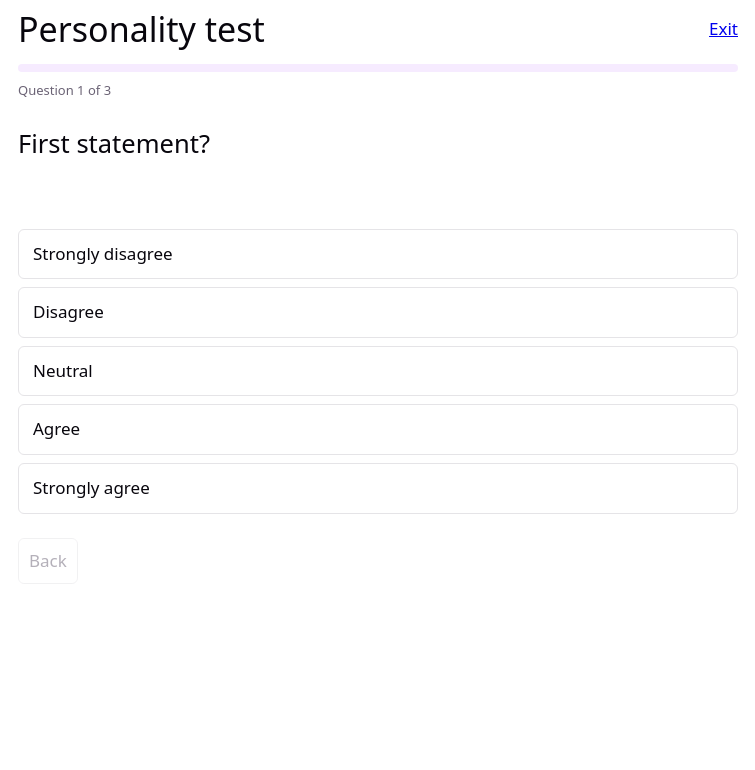
Scenario: quiz flow › walks through every question and lands on the results page
Click the button "Agree". click: coordinates (57, 429)
box: x1=18 y1=404 x2=738 y2=455
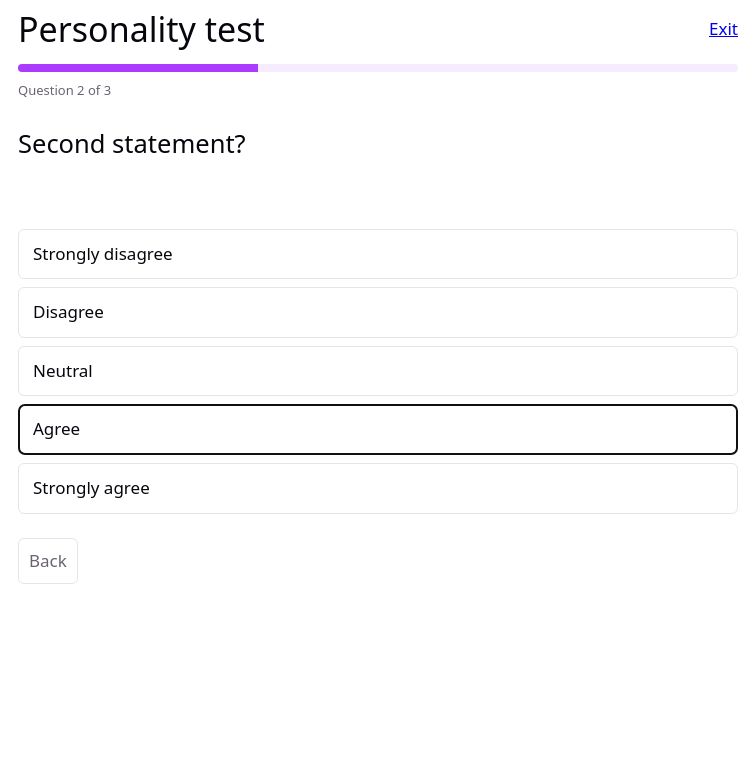
Result: the heading "Second statement?" is shown at x1=18 y1=126 x2=246 y2=160
Click the button "Strongly agree". click: coordinates (91, 488)
box: x1=18 y1=463 x2=738 y2=514
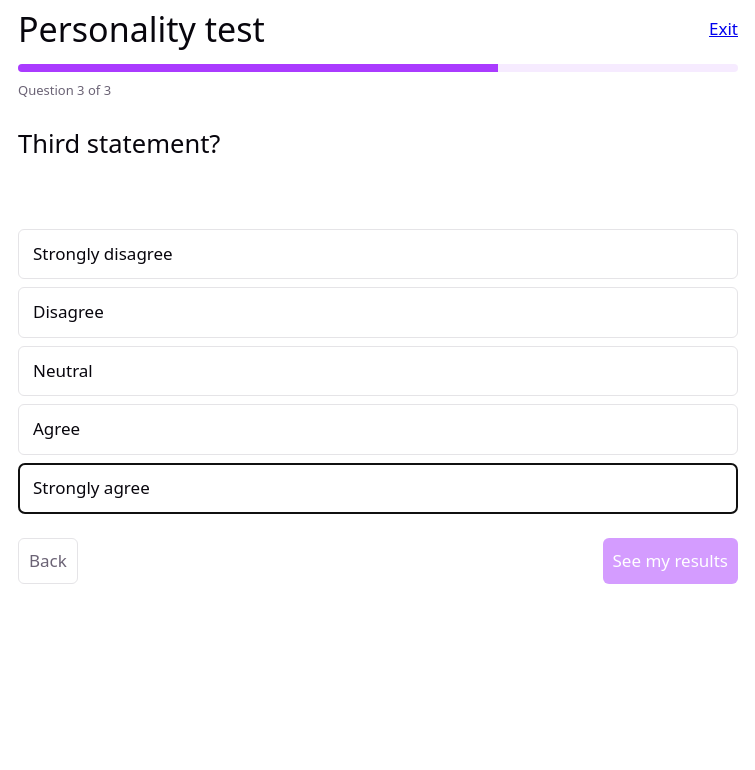
Result: the heading "Third statement?" is shown at x1=18 y1=126 x2=220 y2=160
Result: the button "See my results" is disabled at x1=602 y1=538 x2=738 y2=584
Click the button "Neutral". click: coordinates (63, 370)
box: x1=18 y1=346 x2=738 y2=396
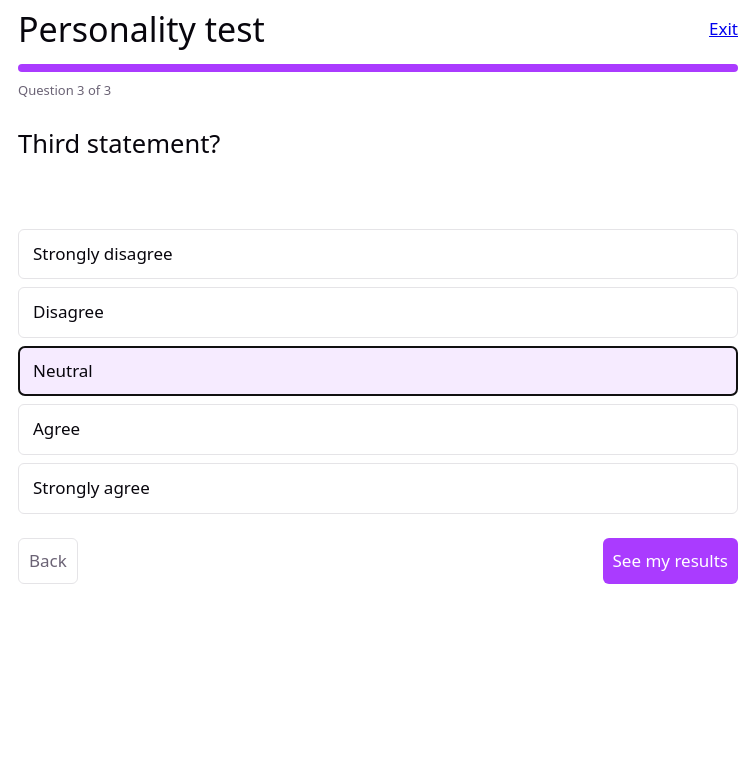
Result: the button "See my results" is enabled
Click the button "See my results". click: coordinates (670, 561)
box: x1=602 y1=538 x2=738 y2=584
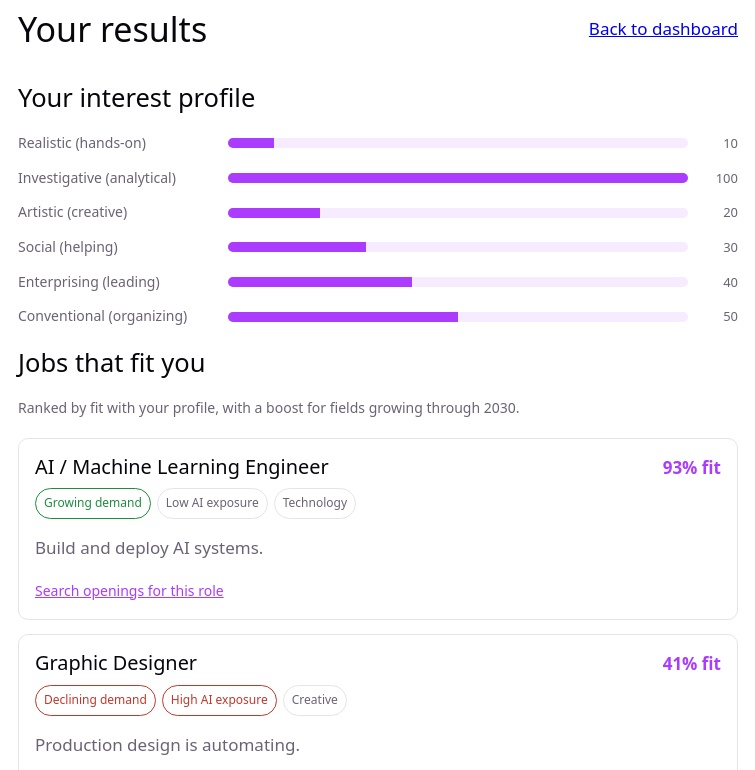
Result: the heading "Your interest profile" is shown at x1=18 y1=80 x2=255 y2=114
Result: the heading "AI / Machine Learning Engineer" is shown at x1=35 y1=455 x2=329 y2=479
Result: the text "93% fit" is shown at x1=663 y1=456 x2=721 y2=480
